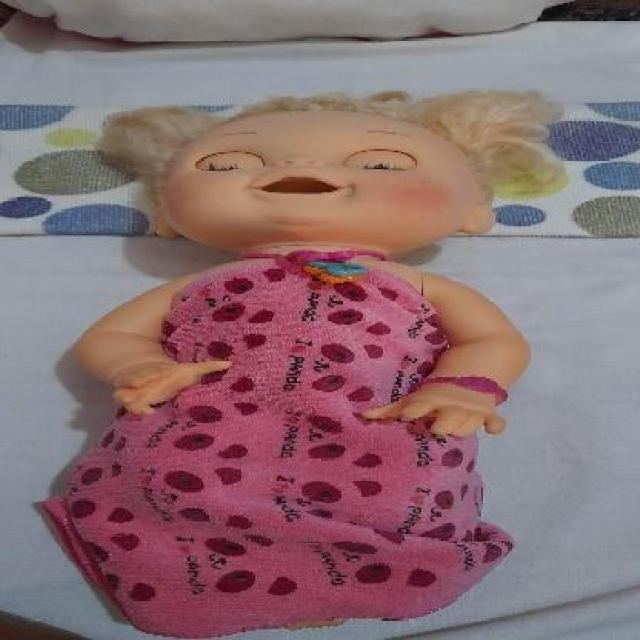non-dog: (44, 88, 567, 632)
